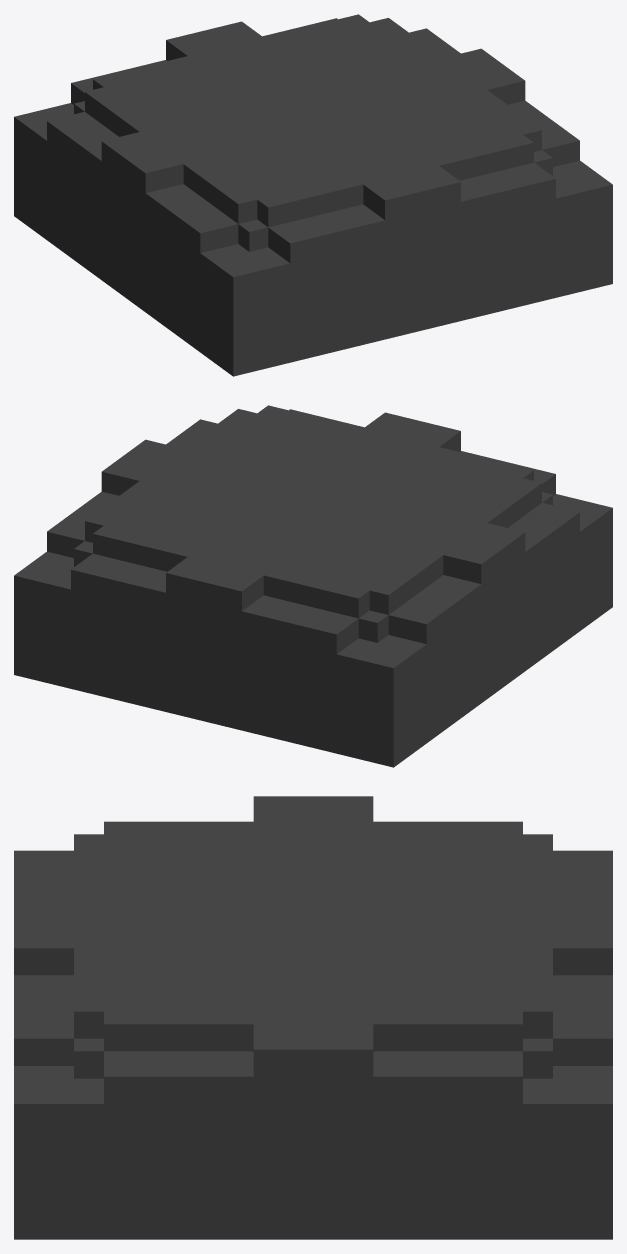
The model's file is TurretBody.obj.
3 renders of one model, top to bottom at view 1: azimuth 30°, elevation 25°; view 2: azimuth 150°, elevation 25°; view 3: azimuth 270°, elevation 25°, orthographic. The views are drawn at different scales.
Bounding box in the file's own units: 2 × 0.7 × 2.
Materials: 1 (1 with a texture image).
